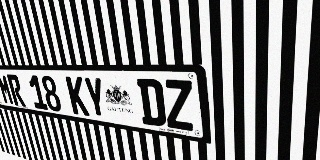1: (27, 75, 48, 110)
8: (40, 75, 62, 112)
D: (137, 79, 167, 127)
K: (65, 76, 90, 116)
M: (0, 74, 15, 105)
R: (6, 74, 26, 107)
Y: (83, 77, 108, 119)
Z: (163, 79, 195, 131)
